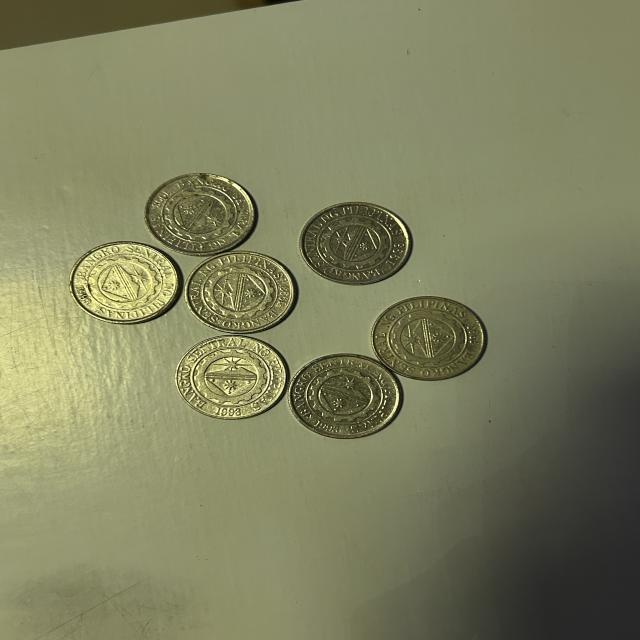1_Old_Back: (157, 180, 242, 247), (187, 345, 273, 410), (82, 250, 170, 313), (385, 306, 469, 371), (198, 259, 280, 323), (301, 366, 387, 427), (314, 215, 394, 280)
